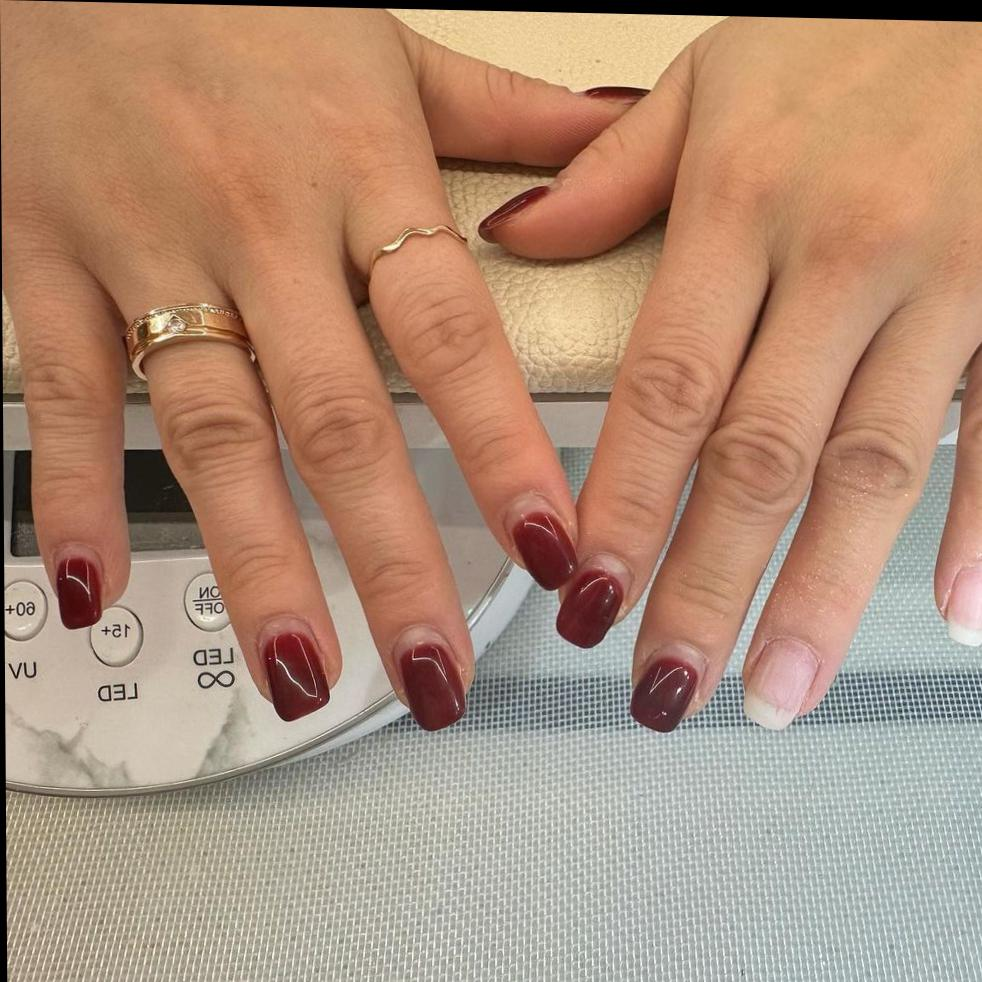nail: (743, 633, 823, 731), (631, 641, 708, 734), (399, 637, 468, 732), (264, 628, 332, 722), (511, 505, 579, 591), (556, 567, 625, 649), (478, 182, 554, 237), (56, 550, 105, 629), (945, 562, 982, 648)
